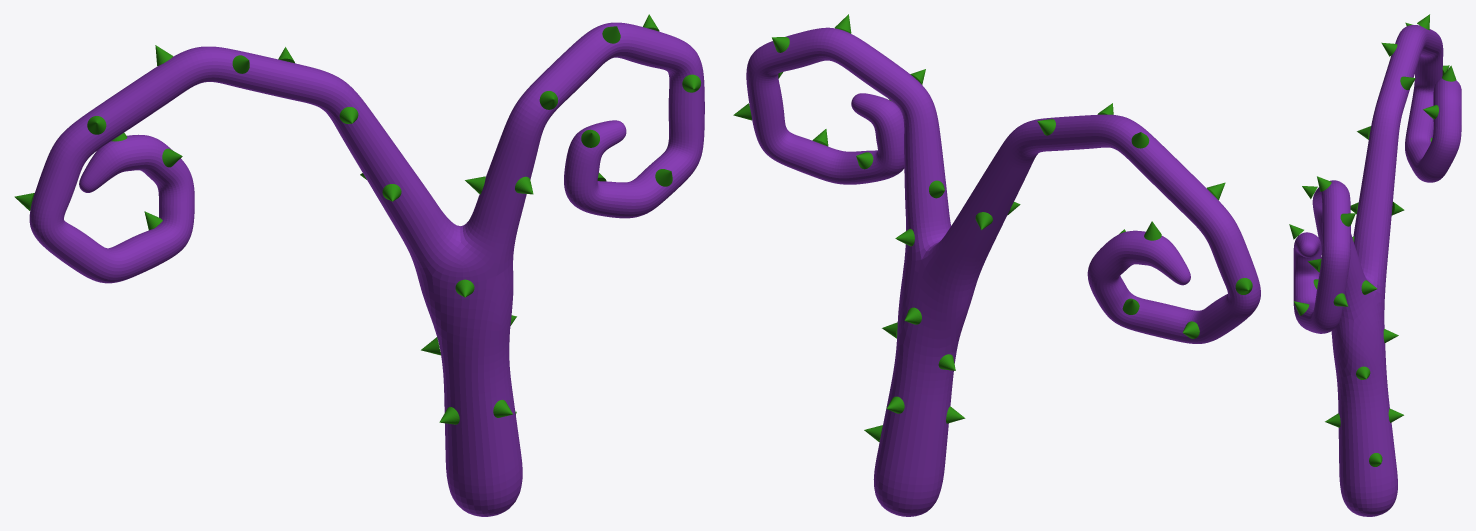
The model's file is weeds0.2.fbx.
3 renders of one model, left to right at view 1: azimuth 30°, elevation 25°; view 2: azimuth 150°, elevation 25°; view 3: azimuth 270°, elevation 25°, orthographic. The views are drawn at different scales.
Parts seen in each view (by area): view 1: Plane; view 2: Plane; view 3: Plane.
Part boxes in pixels (x1,y1,x2,y2): Plane: (29,22,704,516); Plane: (746,27,1260,516); Plane: (1293,25,1461,516).
Size of the model in its own units: 755 by 592 by 237.
